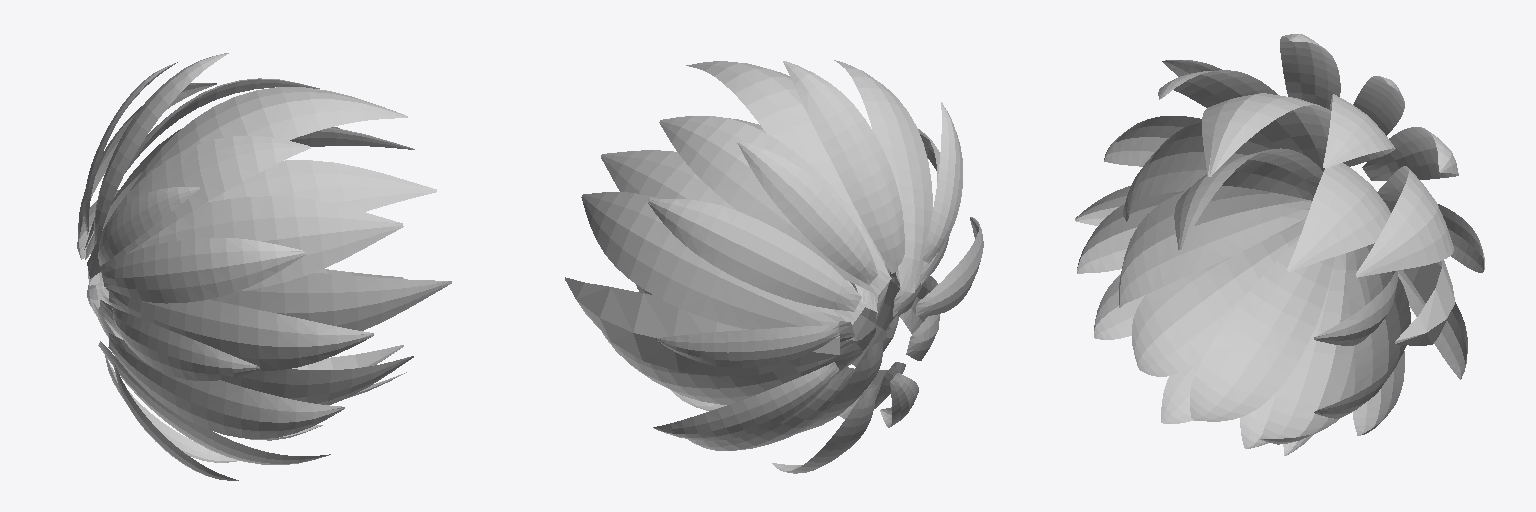
The model's file is pineapple_leaves.obj.
3 views of the same model, side by side, from view 1: azimuth 30°, elevation 25°; view 2: azimuth 150°, elevation 25°; view 3: azimuth 270°, elevation 25° (orthographic).
Parts seen in each view (by area): view 1: dynamic; view 2: dynamic; view 3: dynamic.
Boxes of the visible parts, box(x1,y1,x2,y2) form: dynamic: box(77, 53, 451, 480); dynamic: box(565, 60, 983, 473); dynamic: box(1075, 34, 1484, 455).
Size of the model in its own units: 17.53 by 20.75 by 18.9.